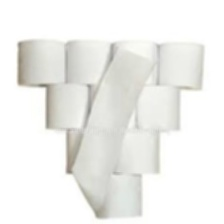tissue: (67, 45, 162, 224), (14, 37, 69, 92), (41, 79, 95, 135), (153, 39, 209, 93), (62, 37, 116, 90), (107, 38, 161, 91), (132, 82, 185, 133), (111, 128, 163, 177)
